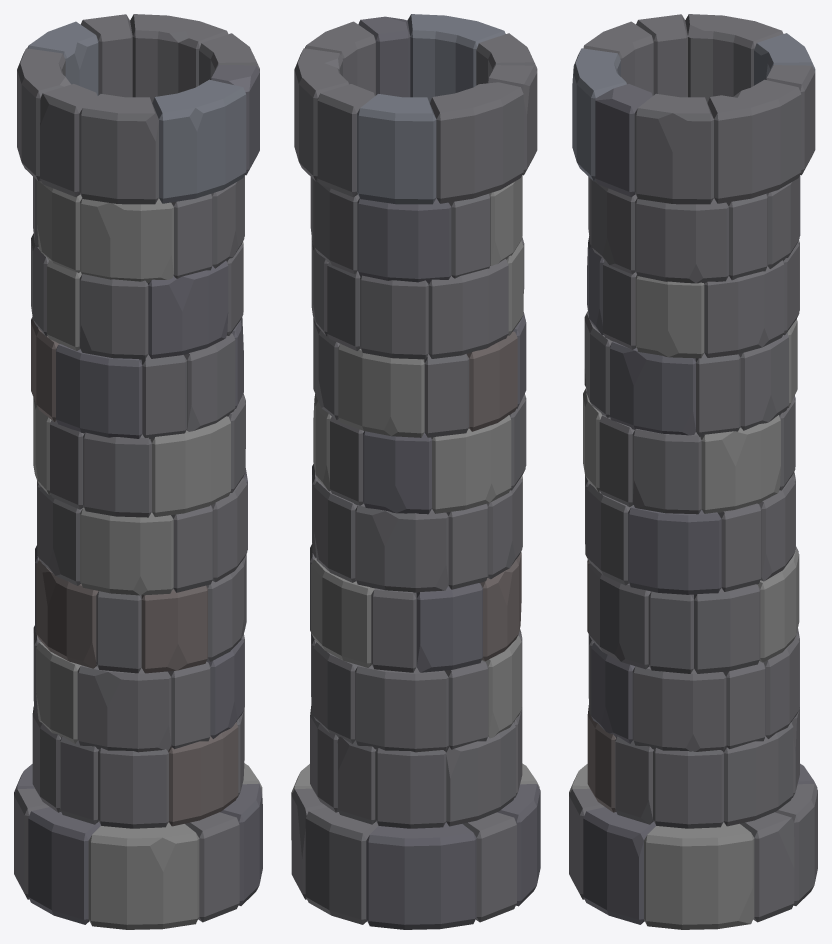
The model's file is column.fbx.
3 renders of one model, left to right at view 1: azimuth 30°, elevation 25°; view 2: azimuth 150°, elevation 25°; view 3: azimuth 270°, elevation 25°, orthographic.
Visible parts, largest first — view 1: column; view 2: column; view 3: column.
Boxes of the visible parts, x1,y1,x2,y2 form: column: (14,14,262,929); column: (291,14,540,929); column: (569,14,817,929).
Size of the model in its own units: 322 by 1165 by 323.
